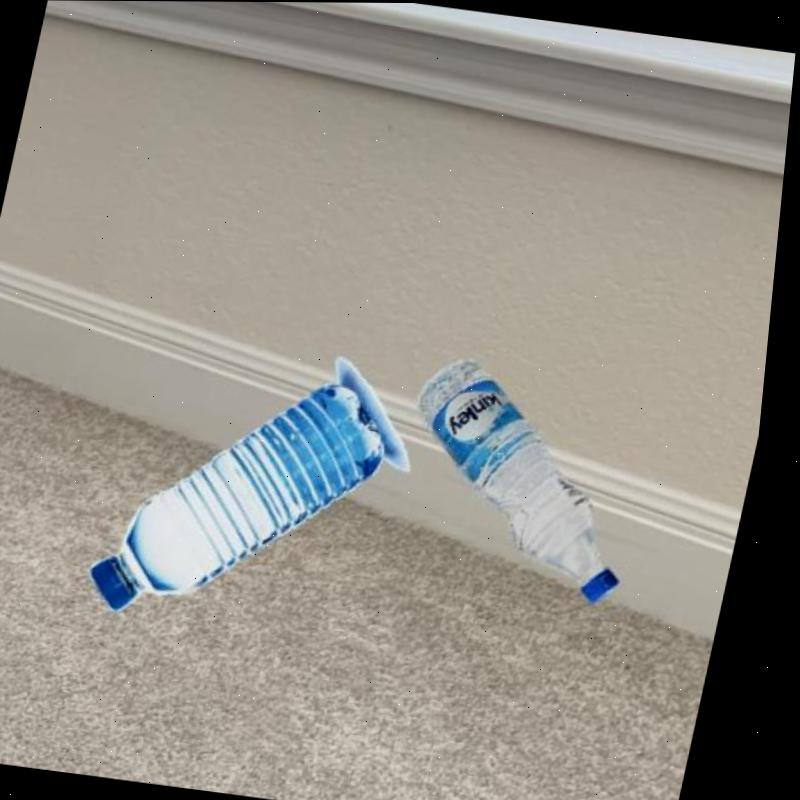botella: (90, 351, 406, 638), (385, 348, 671, 602)
